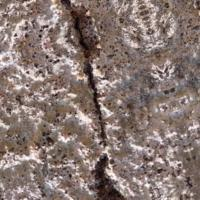crack: (55, 0, 136, 199)
